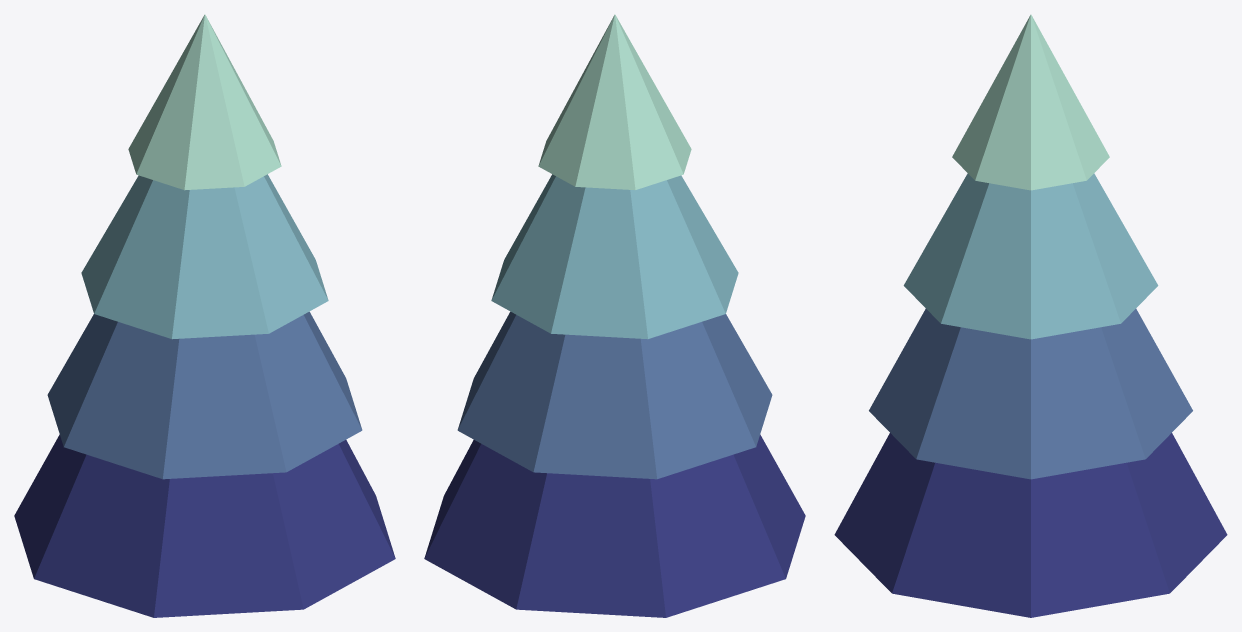
The model's file is 01_03Tree_Blue.fbx.
3 views of the same model, side by side, from view 1: azimuth 30°, elevation 25°; view 2: azimuth 150°, elevation 25°; view 3: azimuth 270°, elevation 25° (orthographic).
Parts seen in each view (by area): view 1: Cone.001; view 2: Cone.001; view 3: Cone.001.
Part boxes in pixels (x1,y1,x2,y2): Cone.001: [14, 14, 395, 617]; Cone.001: [424, 14, 805, 617]; Cone.001: [834, 14, 1227, 617].
Bounding box in the file's own units: 133 × 195 × 133.
